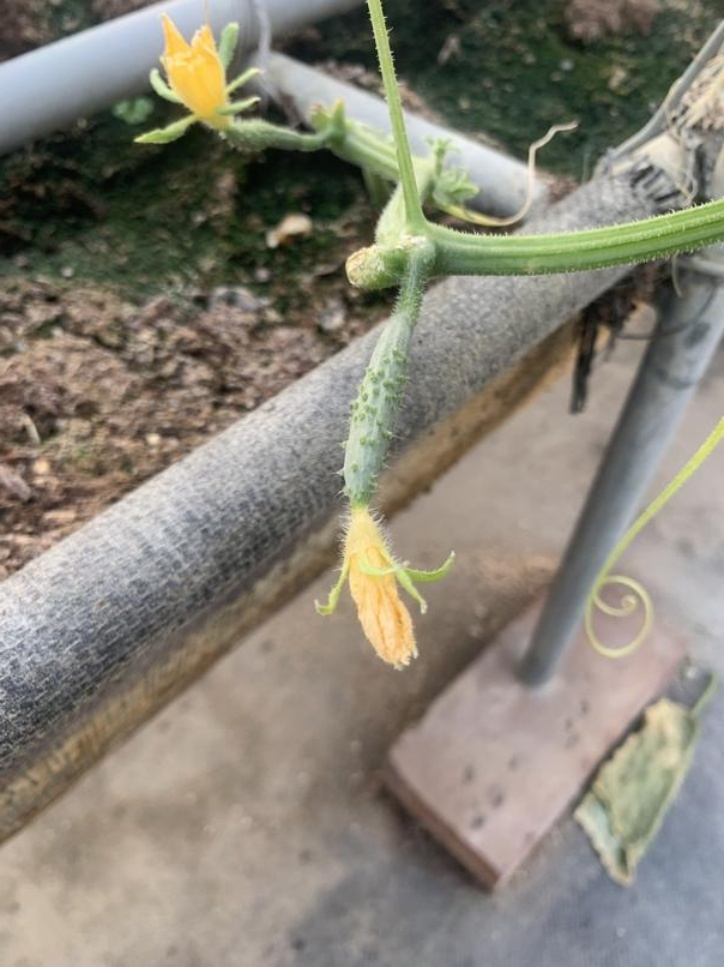bear: (307, 282, 441, 676), (139, 13, 305, 166)
